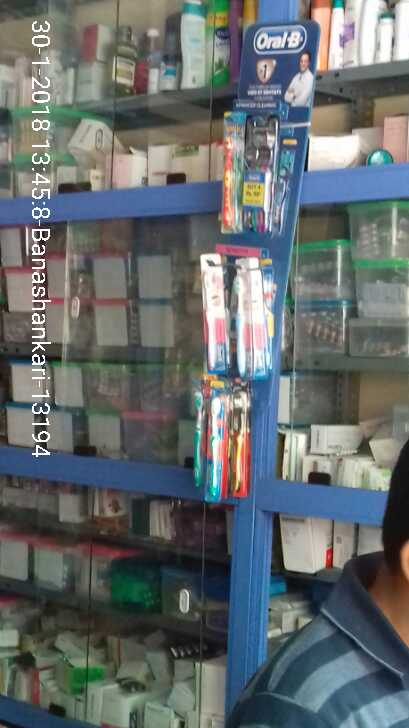oralb: (197, 253, 227, 374), (222, 108, 242, 232), (208, 377, 224, 503)
